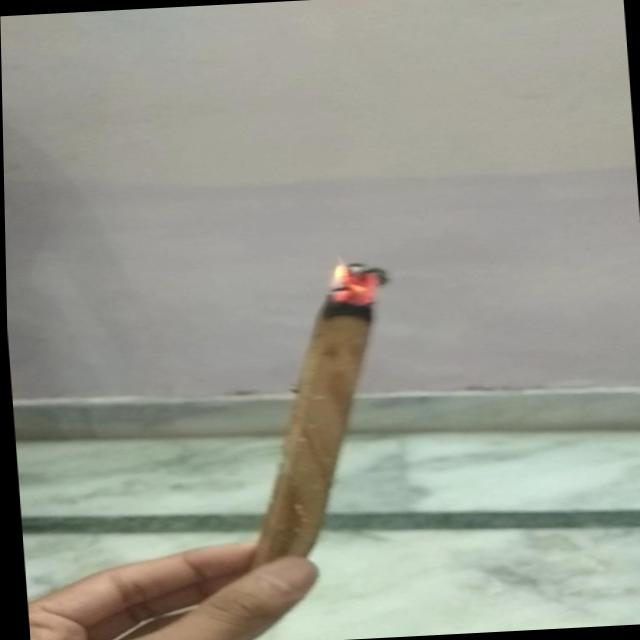fire: (303, 259, 399, 312)
